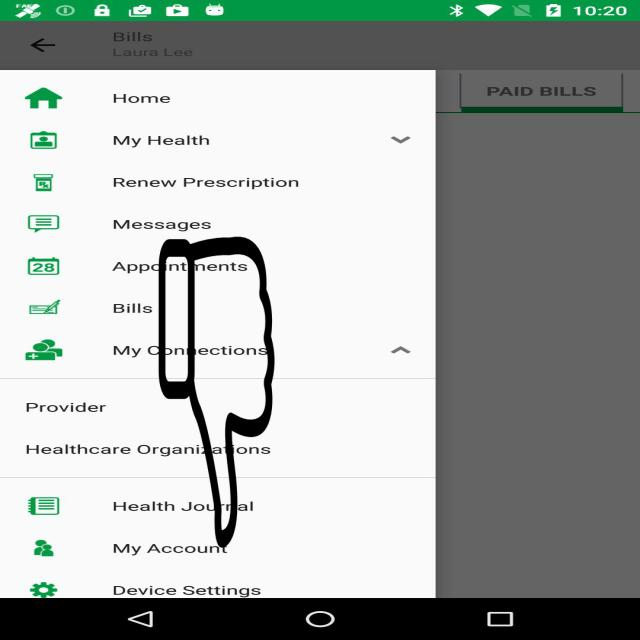obstruction: (157, 237, 276, 548)
